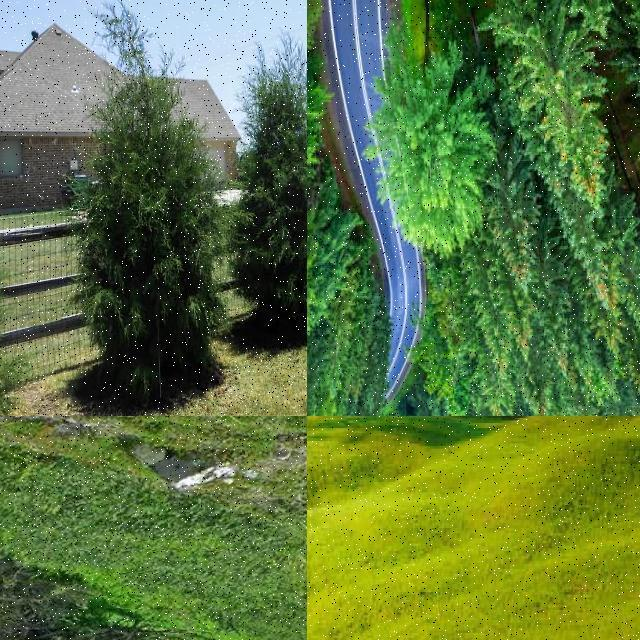tree: (74, 38, 230, 414), (227, 23, 307, 349), (373, 41, 487, 262), (496, 0, 608, 204), (509, 0, 618, 84), (464, 250, 530, 374), (0, 168, 30, 416), (552, 188, 614, 304), (307, 416, 367, 520), (308, 0, 364, 100), (306, 50, 346, 190), (307, 188, 341, 338), (494, 180, 534, 292), (308, 80, 337, 204), (532, 293, 572, 375), (618, 196, 640, 344), (308, 306, 337, 416), (306, 304, 334, 416), (307, 0, 341, 92), (516, 360, 552, 416), (620, 338, 640, 414)
